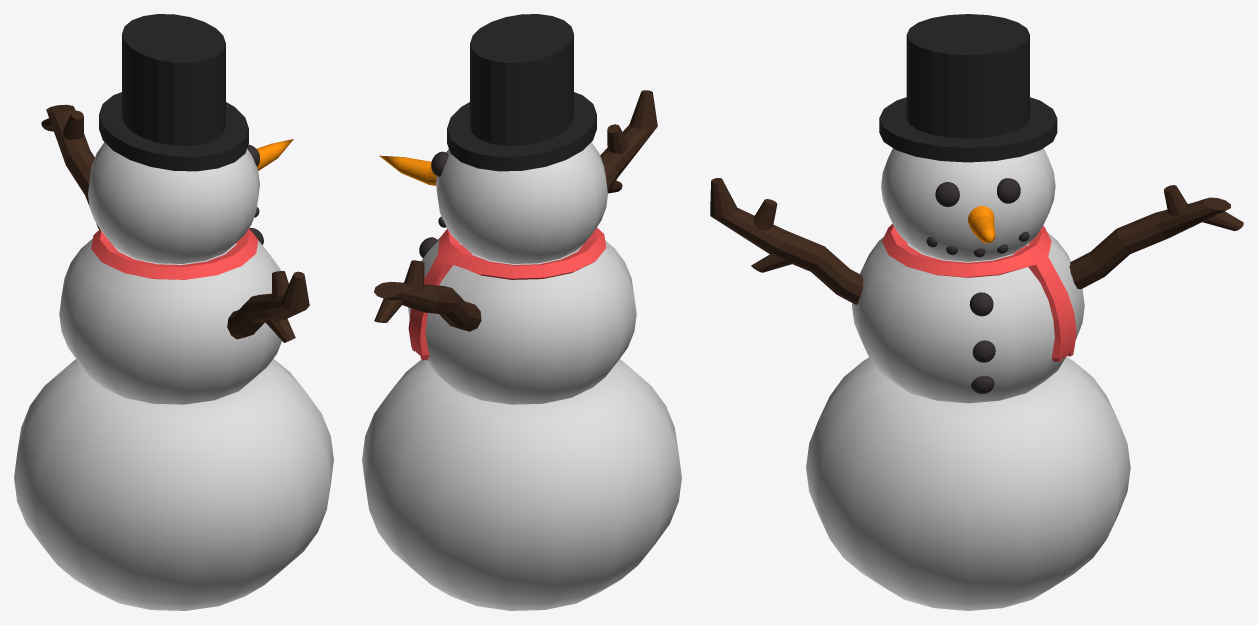
File: snowman.glb
3 views of the same model, side by side, from view 1: azimuth 30°, elevation 25°; view 2: azimuth 150°, elevation 25°; view 3: azimuth 270°, elevation 25° (orthographic).
Visible parts, largest first — view 1: Model; view 2: Model; view 3: Model.
Part boxes in pixels (x1,y1,x2,y2): Model: (14, 14, 333, 610); Model: (362, 14, 681, 610); Model: (710, 14, 1243, 610).
Bounding box in the file's own units: 4.63 × 8.46 × 7.6.
